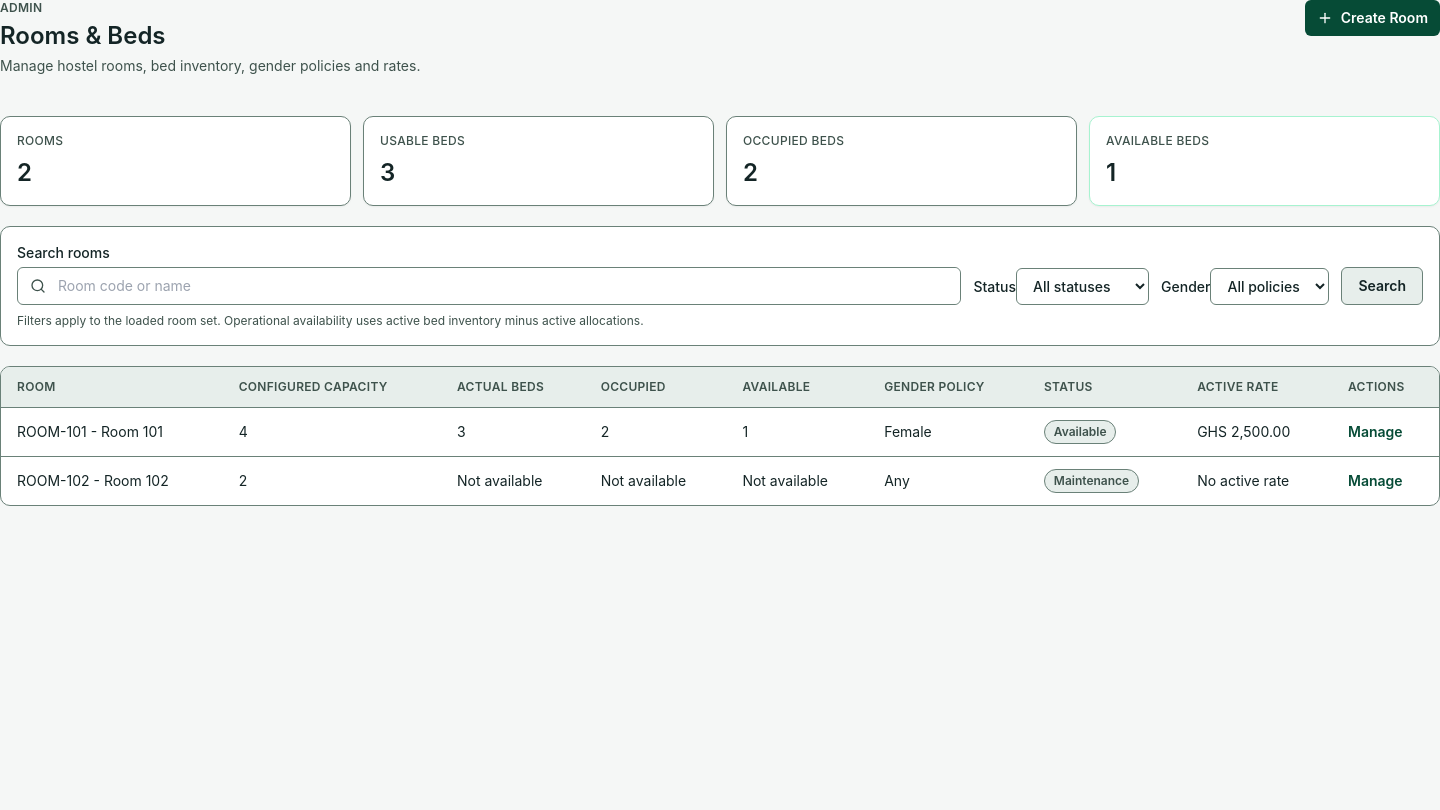
Test: RoomsPage › shows room detail using occupancy from active allocations
This screenshot has width=1440, height=810.
Click the button "Manage" in the row of "ROOM-101 - Room 101" at [1375, 432], box top-left (1348, 422), bottom-right (1403, 442)
(page scrolled)
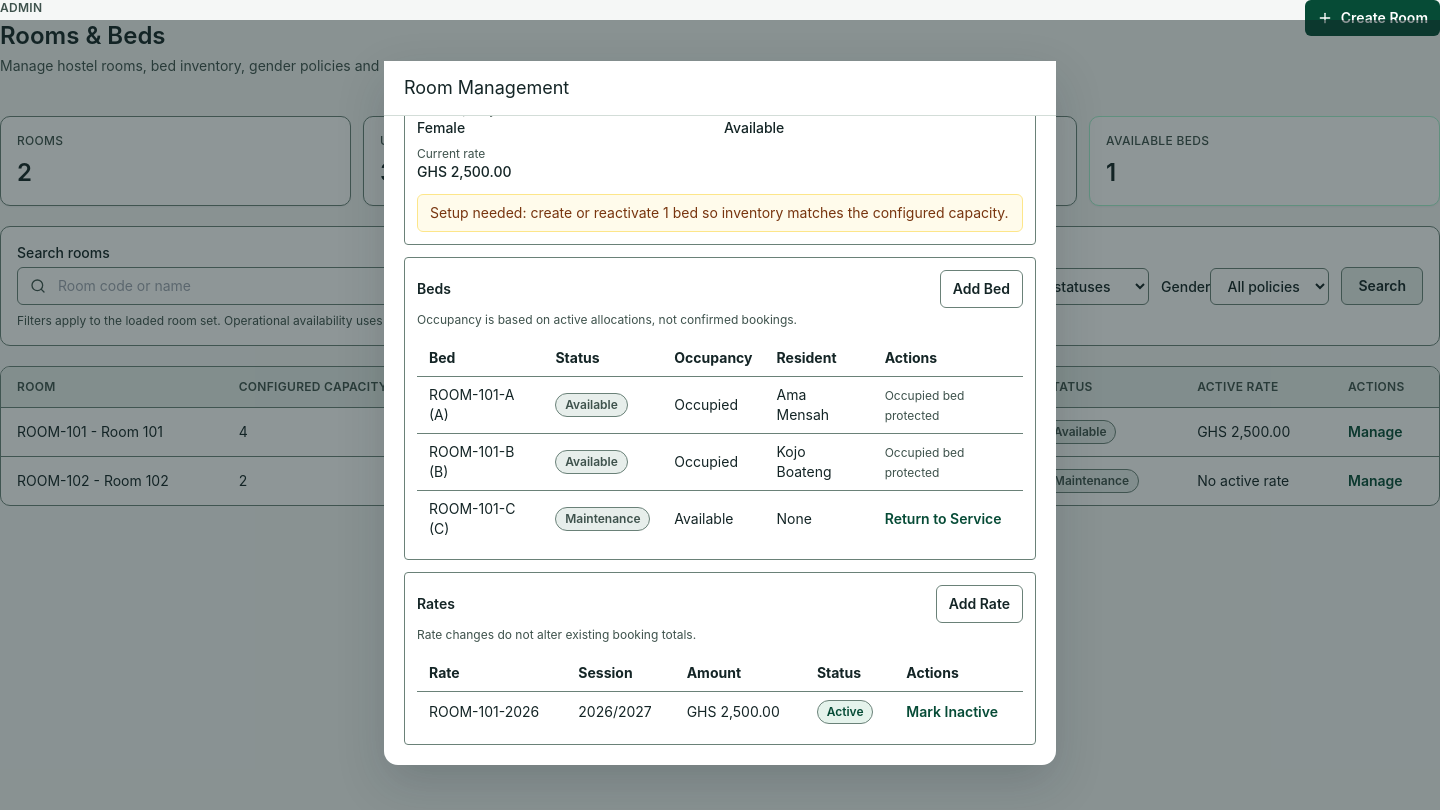
expect the text "Ama Mensah" is shown: met, box top-left (764, 376), bottom-right (873, 434)
expect the text "Kojo Boateng" is shown: met, box top-left (764, 434), bottom-right (873, 490)
expect the text "Occupied bed protected" is shown 2 times: met, box top-left (885, 388), bottom-right (964, 423); top-left (885, 445), bottom-right (964, 480)
